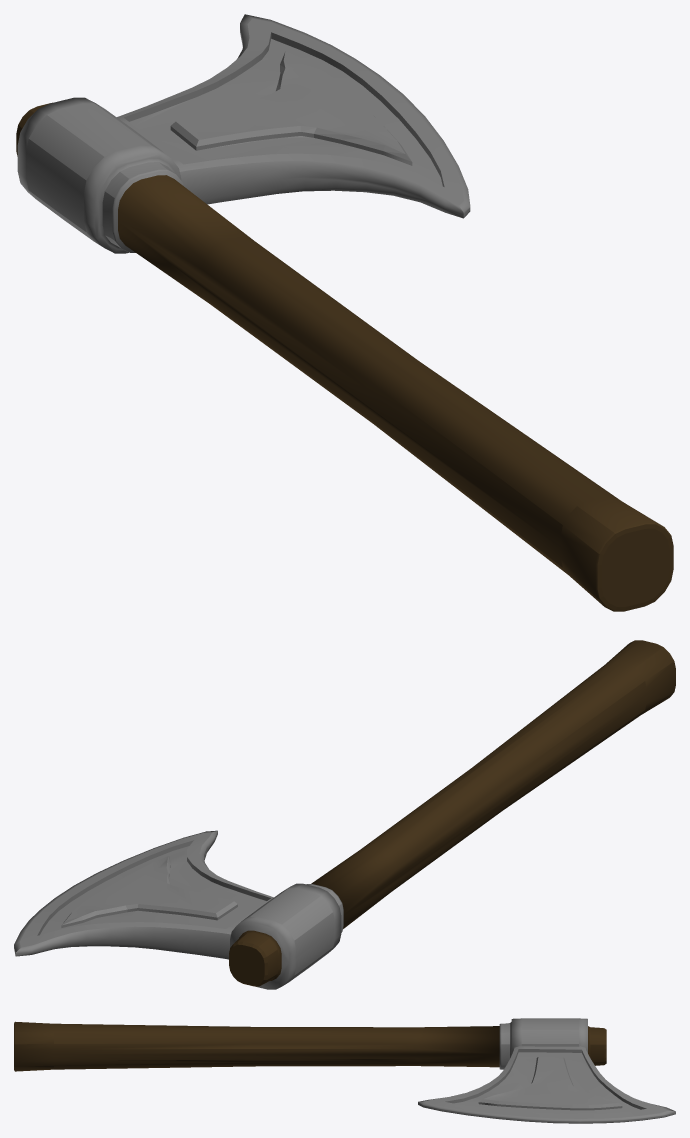
The model's file is axe.fbx.
The picture shows the model from 3 angles, top to bottom: view 1: azimuth 30°, elevation 25°; view 2: azimuth 150°, elevation 25°; view 3: azimuth 270°, elevation 25°; orthographic projection. The views are drawn at different scales.
Visible parts, largest first — view 1: axe; view 2: axe; view 3: axe.
Part boxes in pixels (x1,y1,x2,y2): axe: (16, 14, 673, 611); axe: (14, 640, 675, 989); axe: (14, 1018, 675, 1123).
Bounding box in the file's own units: 22.28 × 5.75 × 71.98.
